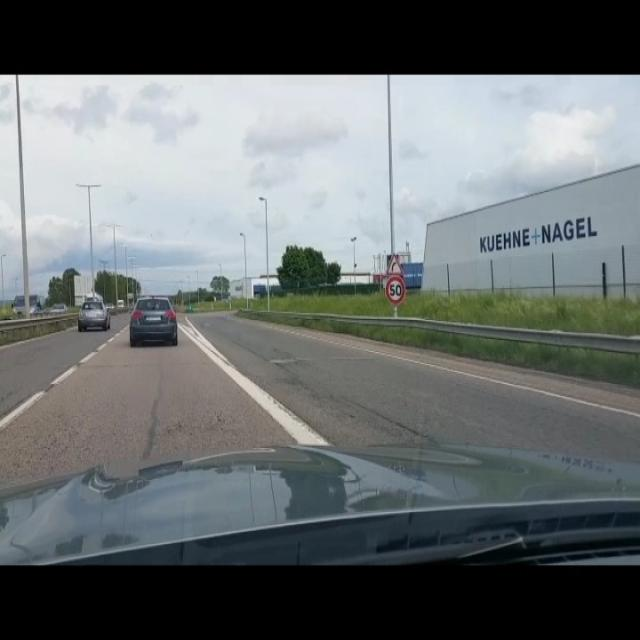speed_50: (384, 275, 406, 306)
turn_right: (384, 252, 406, 276)
